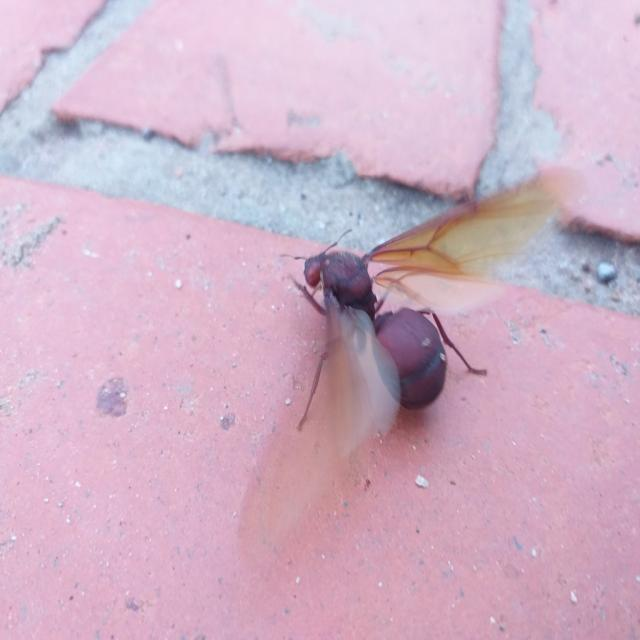Alive-Female-Alate: (238, 166, 588, 561)
